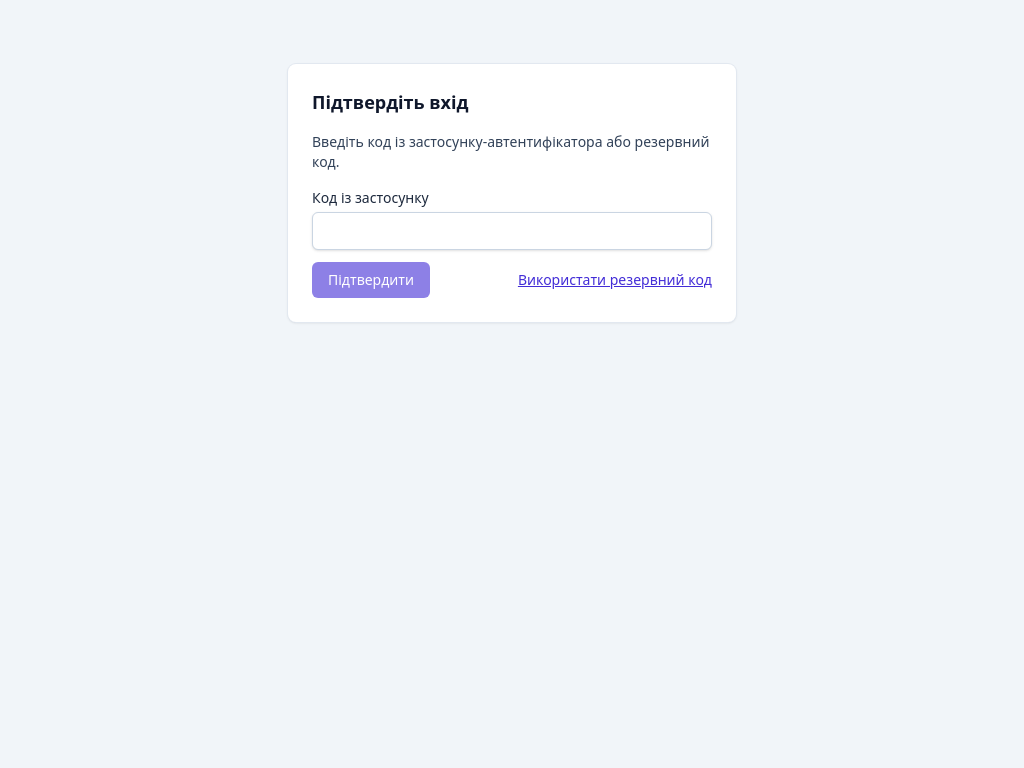
Test: вхід в адмінку › нова сесія спершу підтверджує MFA кодом
Type "123456" into the field labelled "Код із застосунку".
click(512, 231); type("123456")  # box [312,212,712,250]
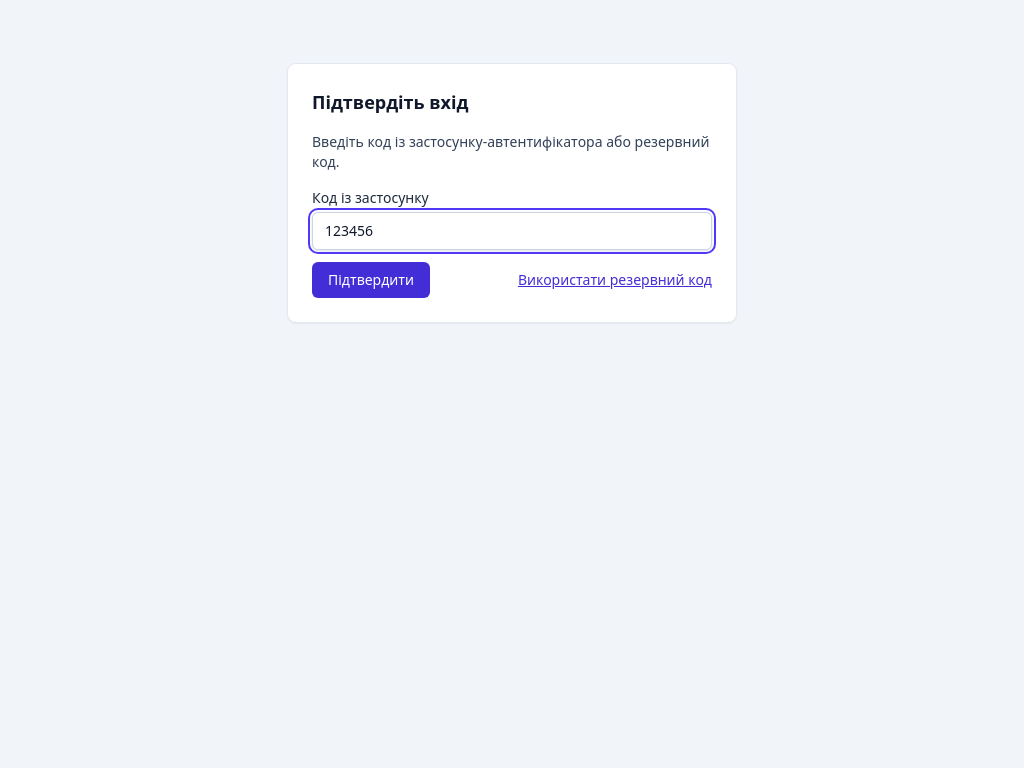
Click the button "Підтвердити".
click(371, 280)  # box [312,262,430,298]
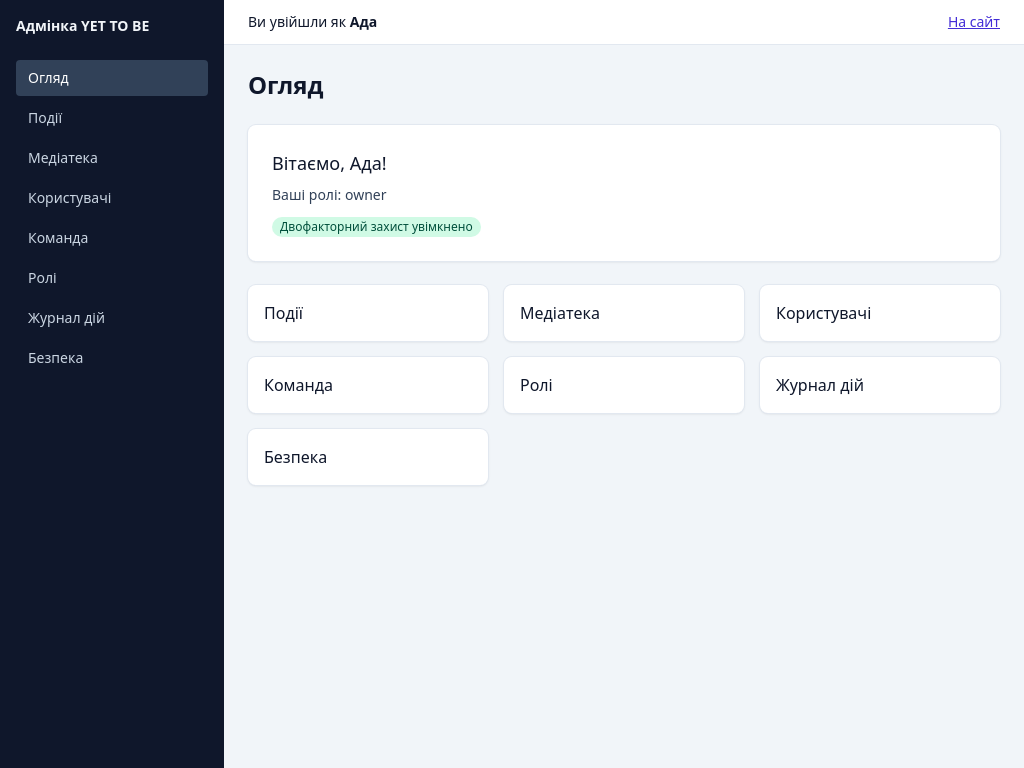
Expected: the heading "Огляд" is shown, [248,68,324,101]
